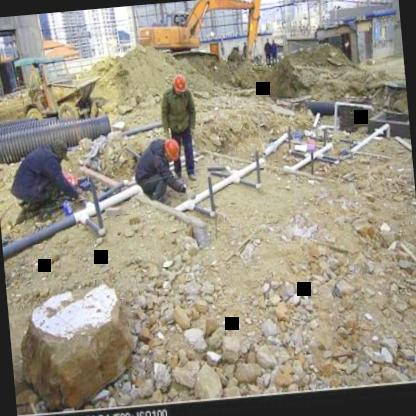helmet: (160, 134, 180, 166), (171, 75, 188, 97)
